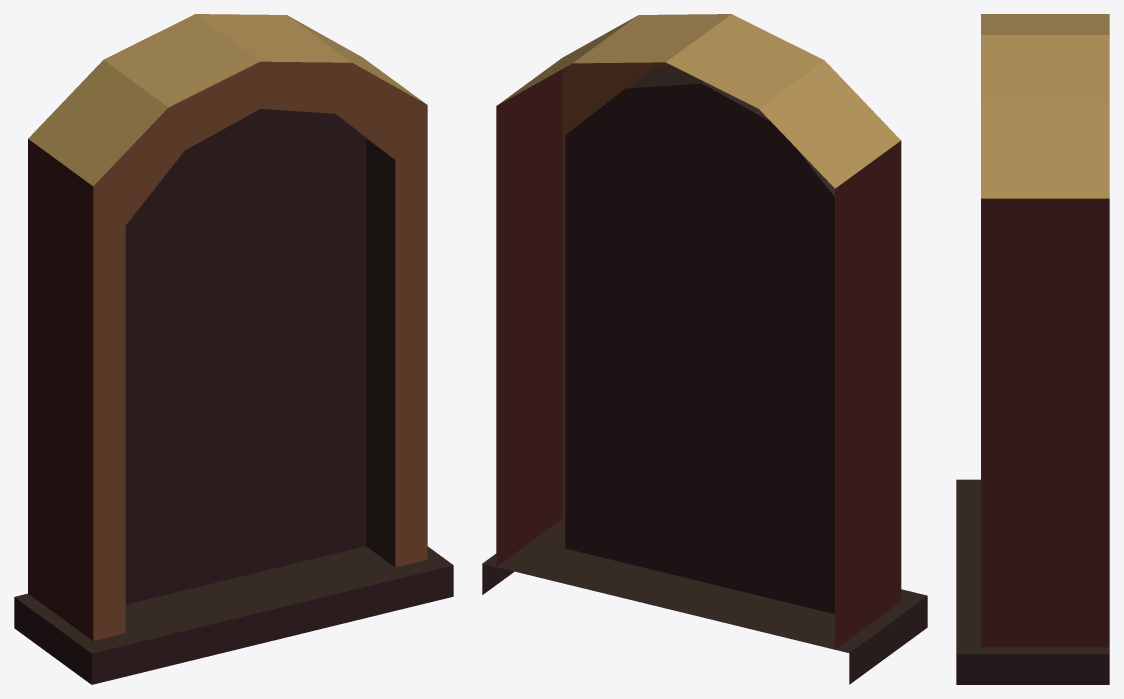
File: TB_CITY_BD_Door_Arch_D.FBX
The picture shows the model from 3 angles, left to right: view 1: azimuth 30°, elevation 25°; view 2: azimuth 150°, elevation 25°; view 3: azimuth 270°, elevation 25°; orthographic projection. The views are drawn at different scales.
Parts seen in each view (by area): view 1: TB_CITY_BD_Door_Arch_D; view 2: TB_CITY_BD_Door_Arch_D; view 3: TB_CITY_BD_Door_Arch_D.
Part boxes in pixels (x1,y1,x2,y2): TB_CITY_BD_Door_Arch_D: [14, 14, 453, 684]; TB_CITY_BD_Door_Arch_D: [482, 14, 927, 684]; TB_CITY_BD_Door_Arch_D: [956, 14, 1109, 684].
Size of the model in its own units: 3.33 by 5.01 by 1.24.
